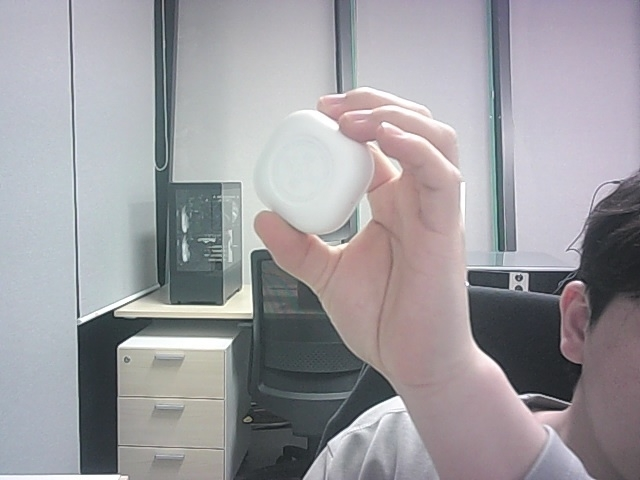case: (255, 110, 373, 235)
